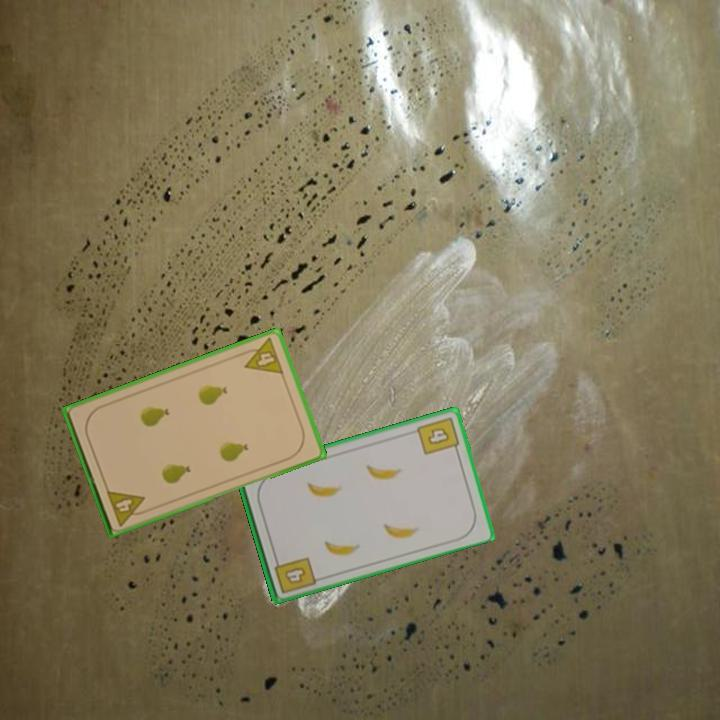4b: (413, 413, 462, 458), (270, 553, 318, 596)
4p: (237, 334, 287, 377), (103, 486, 151, 529)
